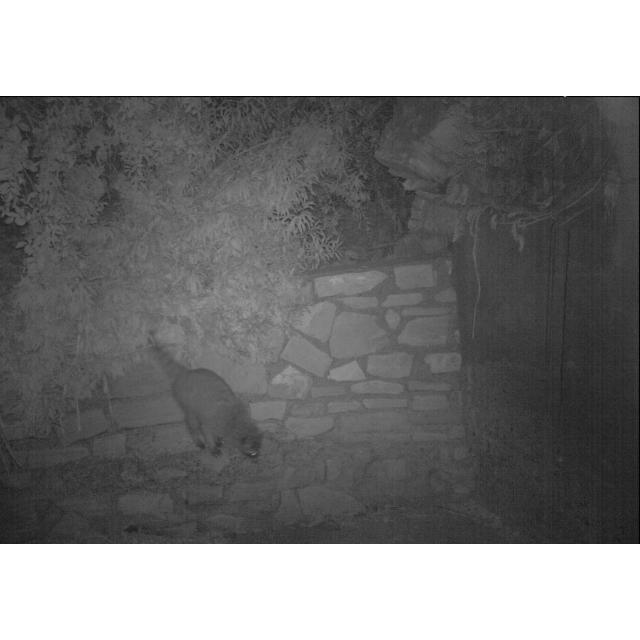animals: (144, 329, 266, 463)
